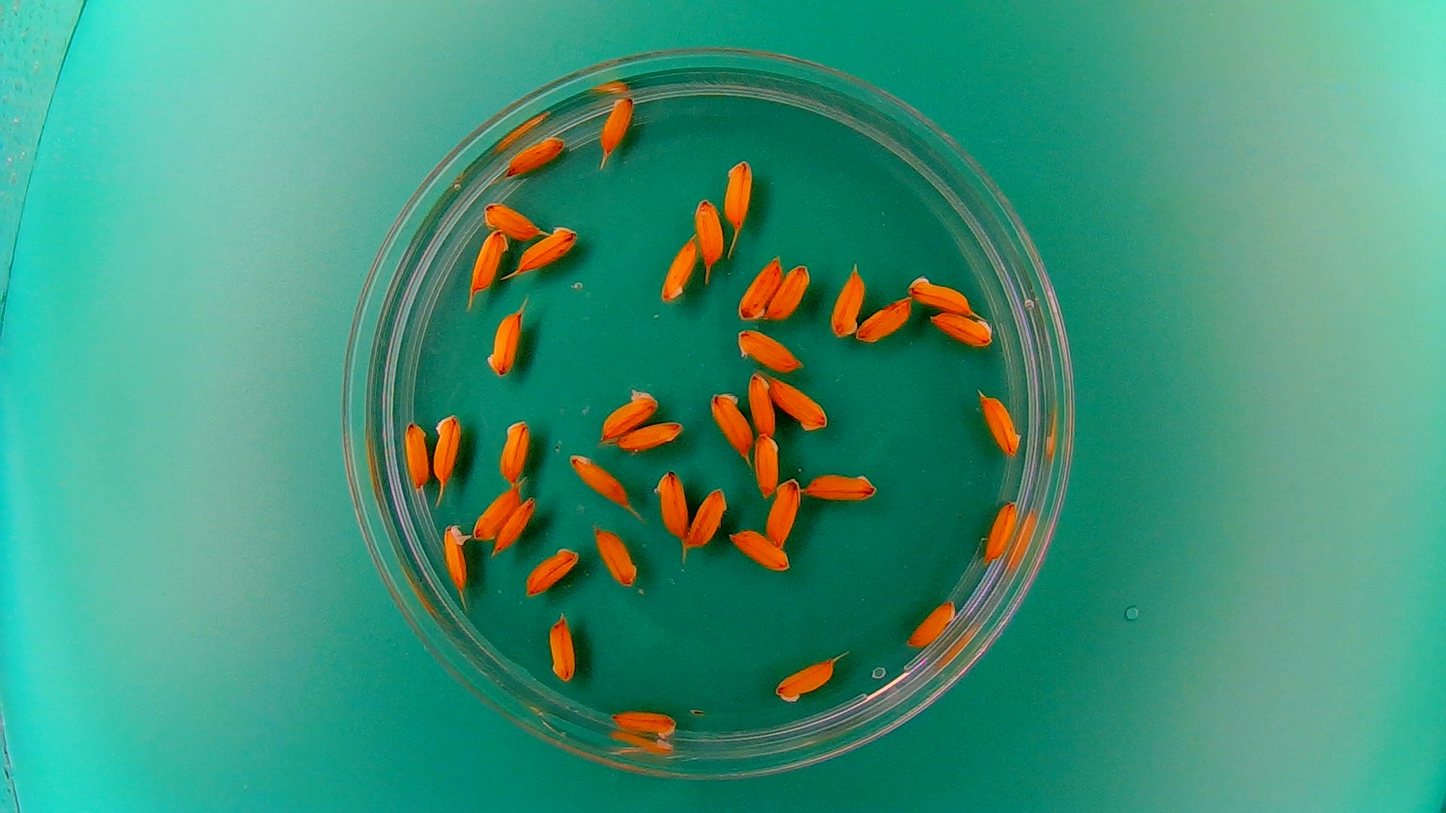no: (773, 367, 831, 431), (566, 452, 631, 508), (592, 94, 636, 172), (736, 253, 784, 323), (501, 130, 569, 179), (771, 655, 837, 705), (734, 327, 805, 373), (514, 223, 578, 274), (726, 526, 794, 573), (977, 388, 1023, 457), (522, 544, 581, 597), (590, 522, 638, 587), (709, 388, 753, 458), (657, 233, 699, 305), (482, 306, 524, 378), (905, 595, 958, 651), (684, 483, 728, 550), (906, 271, 974, 314), (856, 294, 914, 344), (471, 483, 519, 543), (828, 265, 866, 338), (651, 466, 689, 539), (467, 227, 508, 294), (766, 260, 811, 321), (803, 467, 880, 502), (480, 198, 545, 239), (493, 493, 537, 553), (766, 477, 803, 547), (982, 498, 1020, 566), (720, 155, 754, 230), (929, 310, 996, 348), (609, 705, 679, 741), (546, 609, 578, 684), (430, 411, 462, 486), (617, 418, 686, 452), (693, 195, 725, 267), (496, 417, 530, 483), (746, 369, 777, 437), (402, 417, 431, 489), (752, 431, 780, 498)
yes: (596, 385, 659, 442), (441, 520, 471, 592)
